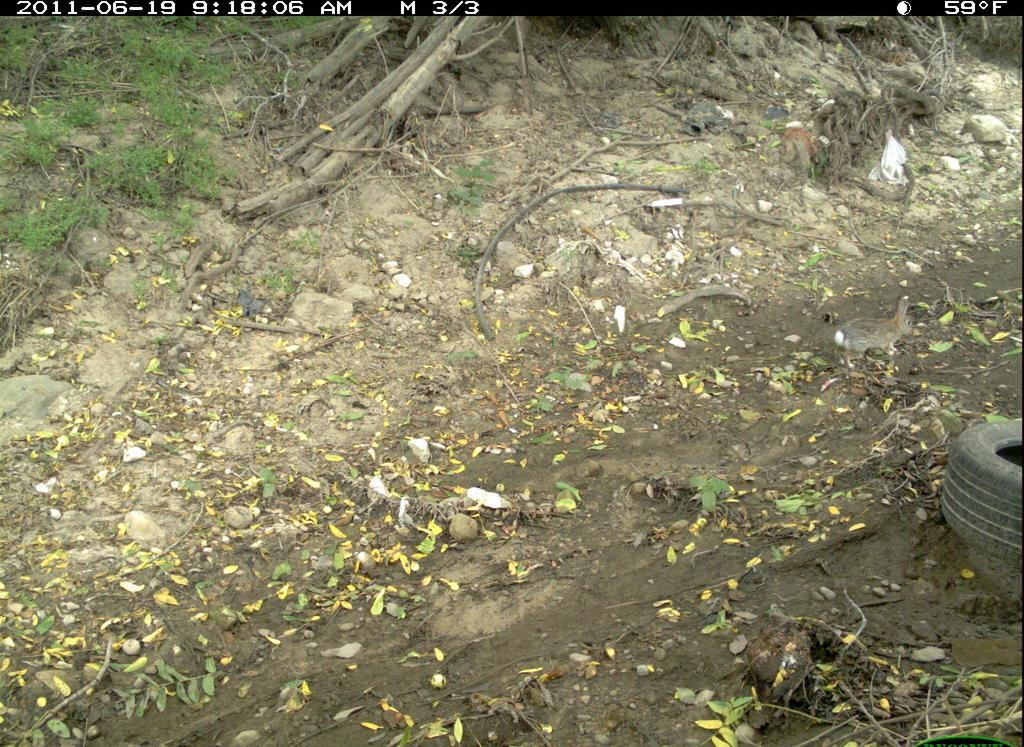rabbit: (830, 294, 927, 373)
